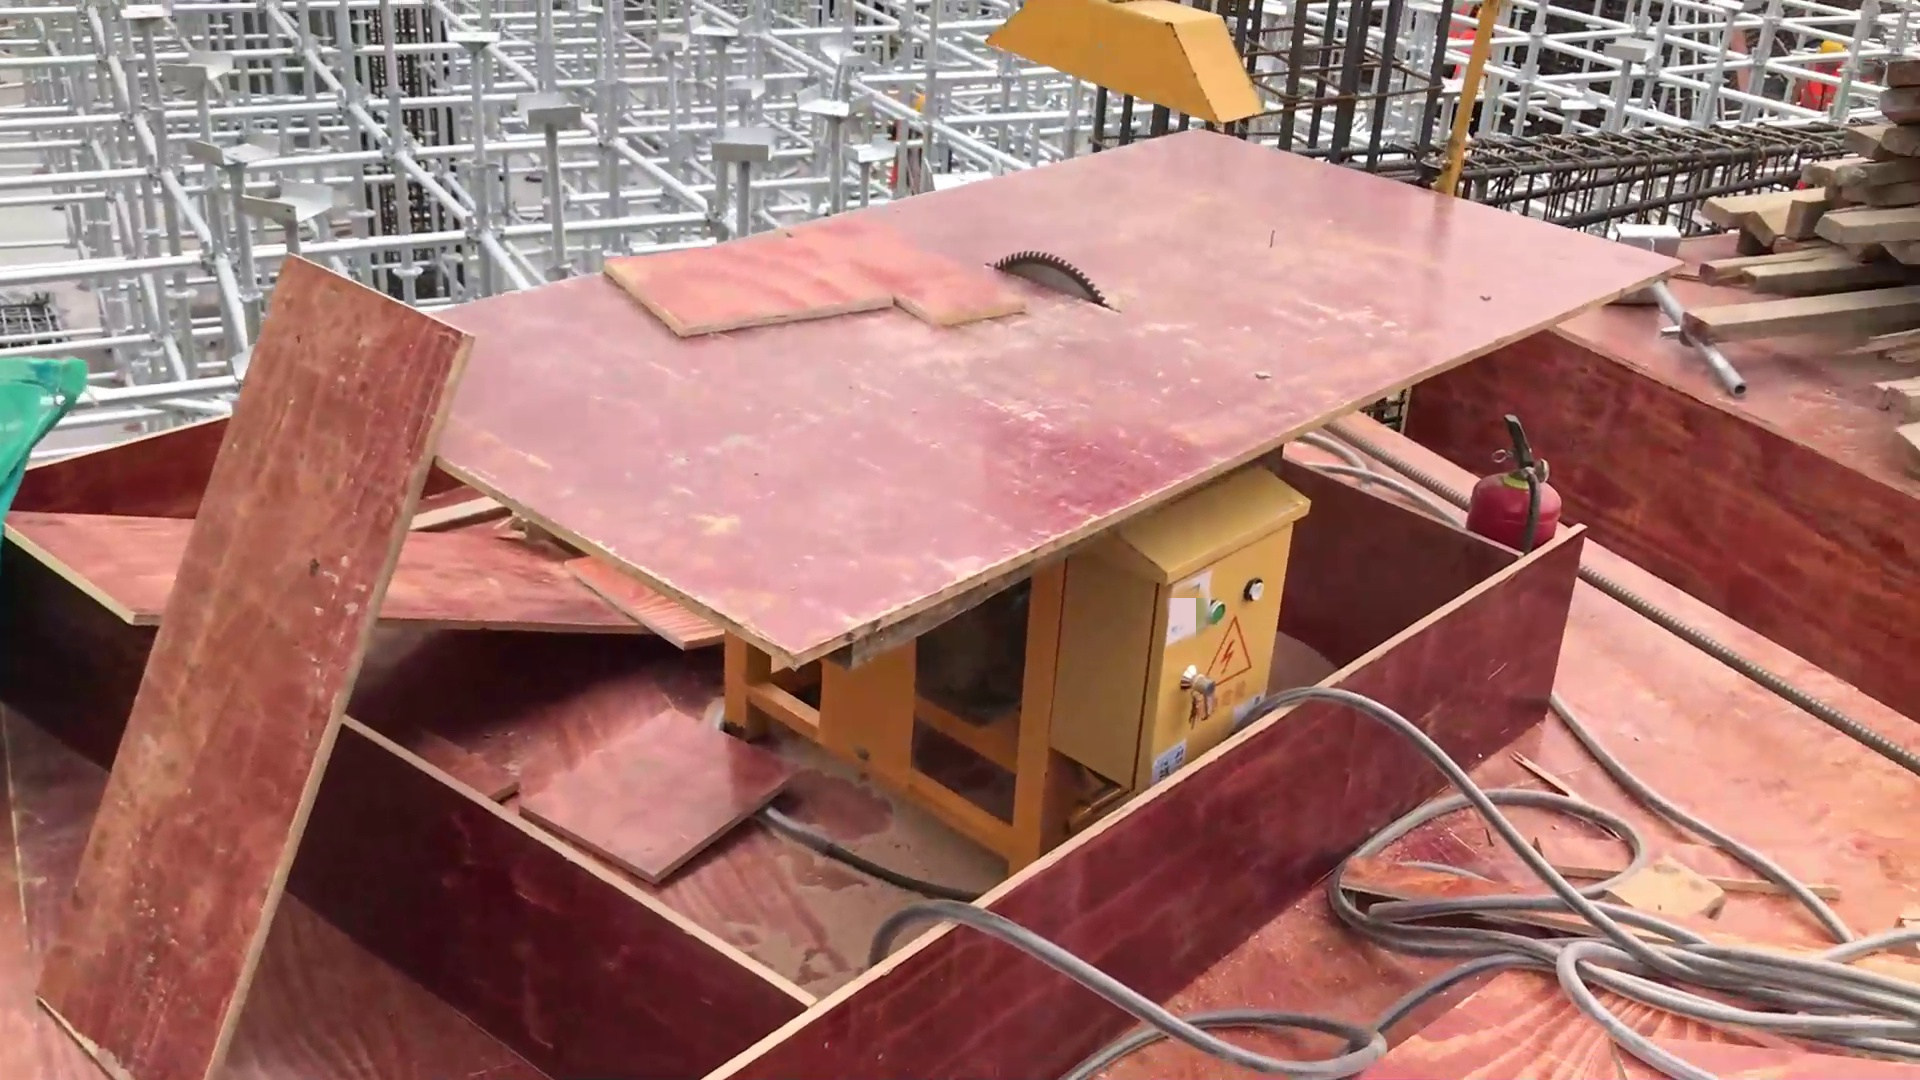cutter: (469, 177, 1644, 484)
ebox: (1113, 499, 1278, 799)
helmet: (914, 87, 937, 116), (1816, 40, 1850, 54)
person: (1452, 1, 1501, 118), (1806, 25, 1851, 145), (896, 80, 934, 206)
vest: (1459, 35, 1491, 101), (890, 118, 912, 191), (1808, 68, 1838, 110)
wood: (1728, 72, 1920, 342)
